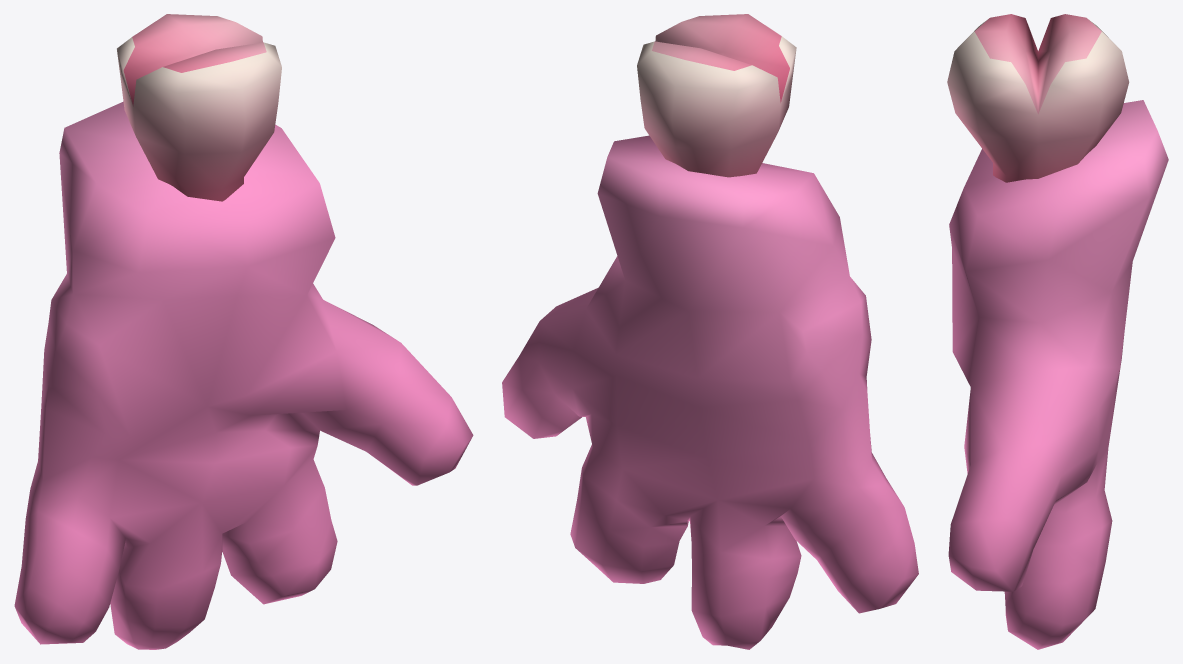
File: bunny_hand.fbx
3 views of the same model, side by side, from view 1: azimuth 30°, elevation 25°; view 2: azimuth 150°, elevation 25°; view 3: azimuth 270°, elevation 25° (orthographic). The views are drawn at different scales.
Visible parts, largest first — view 1: Hand01; view 2: Hand01; view 3: Hand01.
Part boxes in pixels (x1,y1,x2,y2): Hand01: [14, 14, 473, 649]; Hand01: [502, 14, 918, 649]; Hand01: [947, 14, 1168, 649].
Bounding box in the file's own units: 0.1143 × 0.1536 × 0.0515.
1 material, 1 textured.
